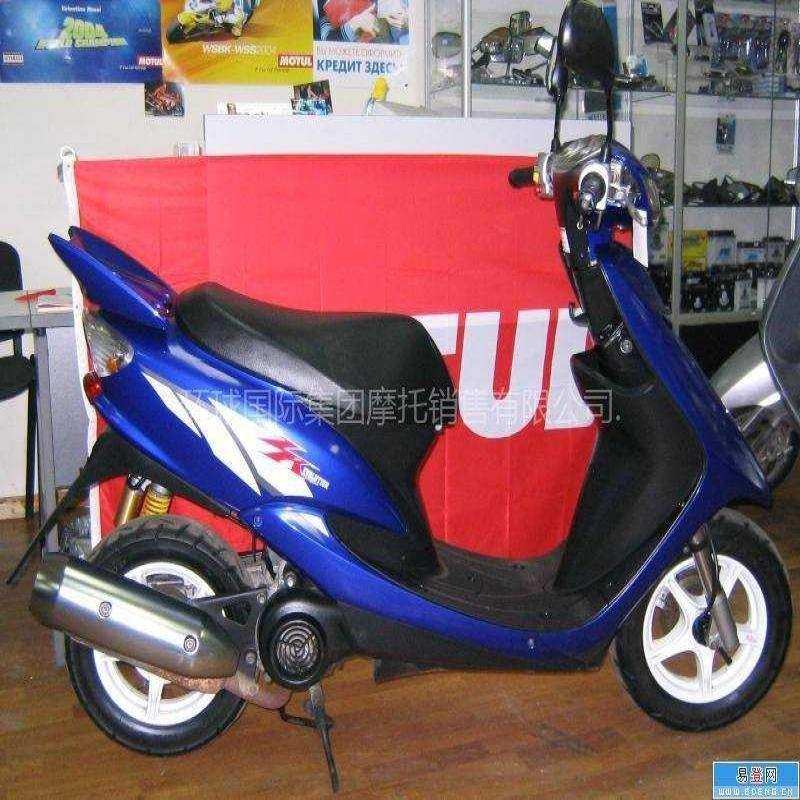bike: (37, 108, 800, 751)
